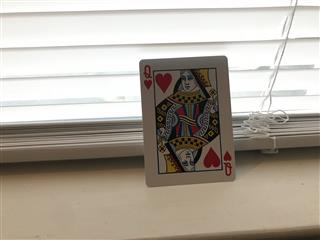QueenOfHearts: (138, 55, 236, 186)
